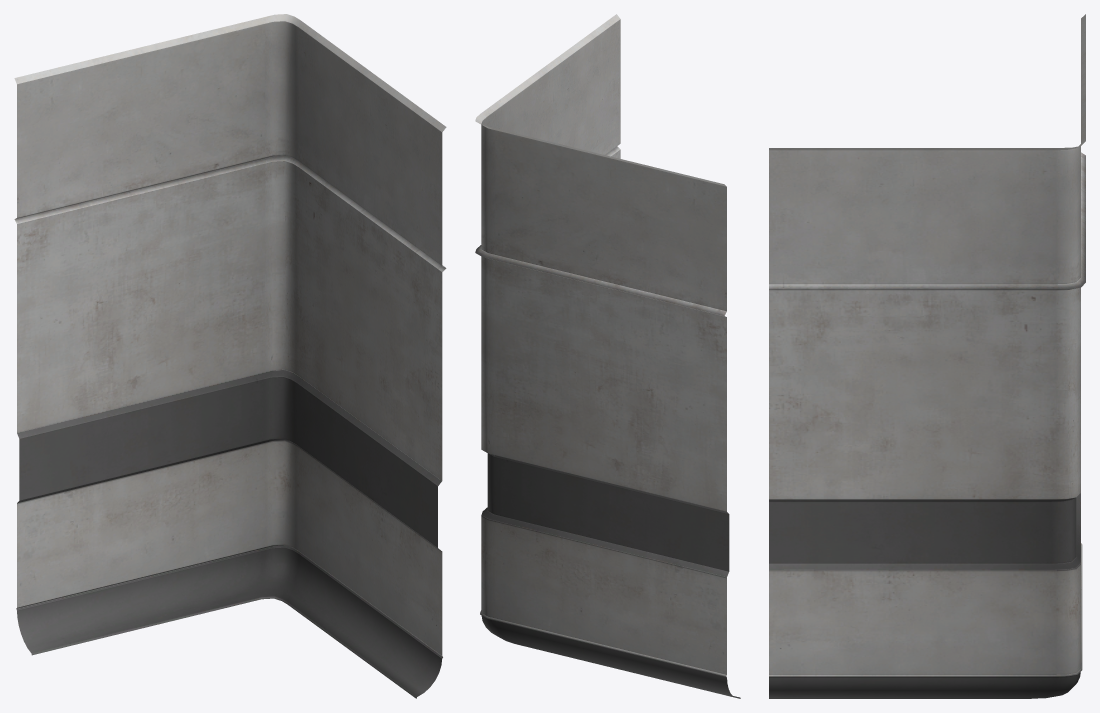
Rendered from hospital_corridor_concave.dae.
The picture shows the model from 3 angles, left to right: view 1: azimuth 30°, elevation 25°; view 2: azimuth 150°, elevation 25°; view 3: azimuth 270°, elevation 25°; orthographic projection. The views are drawn at different scales.
Visible parts, largest first — view 1: corner_concave; view 2: corner_concave; view 3: corner_concave.
Boxes of the visible parts, x1=… form: corner_concave: x1=14, y1=14, x2=446, y2=698; corner_concave: x1=475, y1=14, x2=740, y2=698; corner_concave: x1=769, y1=14, x2=1085, y2=698.
Bounding box in the file's own units: 2.03 × 4 × 2.03.
